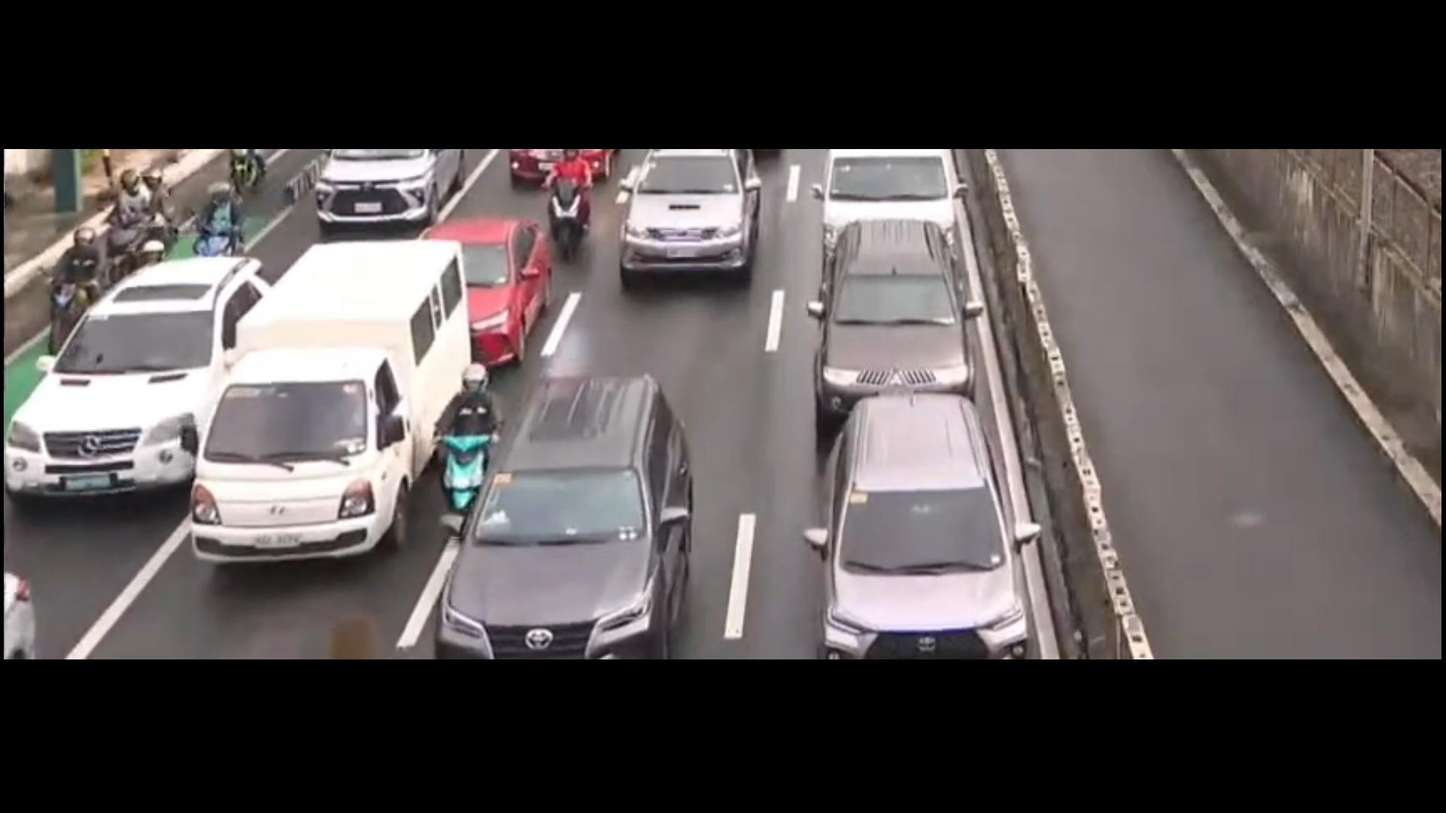Motorcycle: (415, 354, 518, 547), (528, 151, 609, 279), (24, 232, 93, 357), (109, 157, 179, 274), (192, 181, 264, 267), (206, 142, 275, 199)
Multicab: (177, 232, 488, 580)
SUV: (409, 362, 737, 660), (0, 251, 287, 518), (805, 396, 1042, 663), (783, 219, 996, 434), (622, 153, 772, 289)
Sedan: (418, 204, 569, 374)
